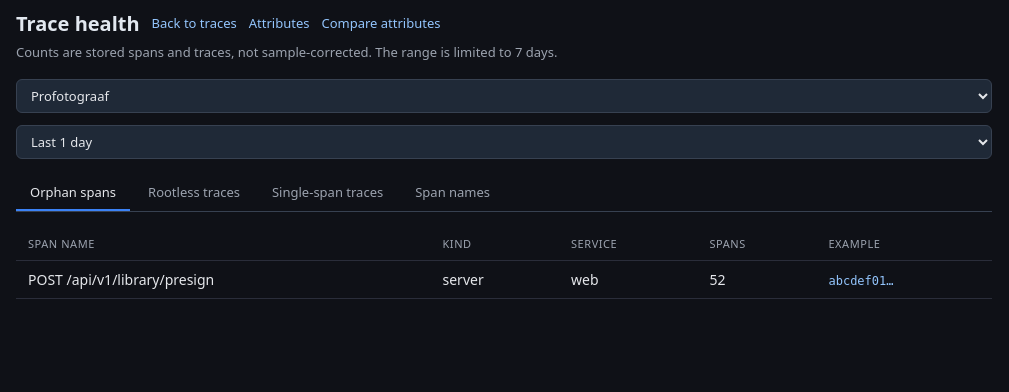
Test: TraceHealthPage › switches tabs and loads the single-span and span-name views
The width and height of the screenshot is (1009, 392).
Expected: the text "POST /api/v1/library/presign" is shown, [16,260,430,298]
Step 1. Click the tab "Single-span traces" → coordinates (328, 192), box [258,174,397,210]
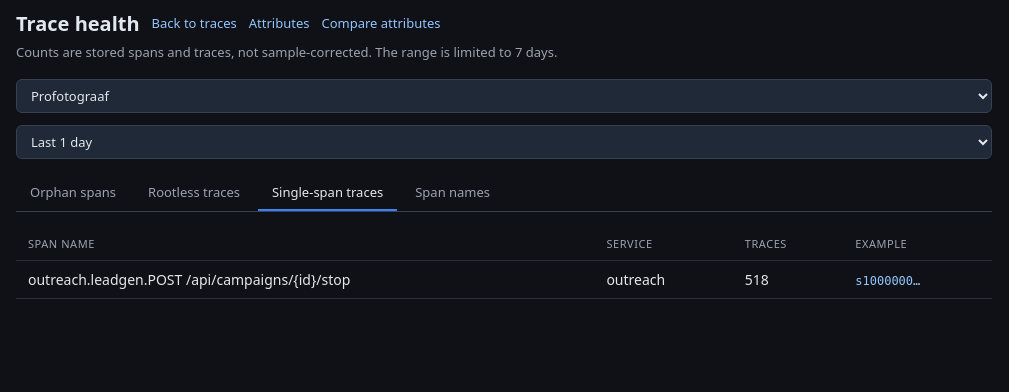
Expected: the text "outreach.leadgen.POST /api/campaigns/{id}/stop" is shown, [16,260,594,298]
Expected: the text "518" is shown, [733,260,843,298]
Step 2. Click the tab "Span names" → coordinates (453, 192), box [401,174,504,210]
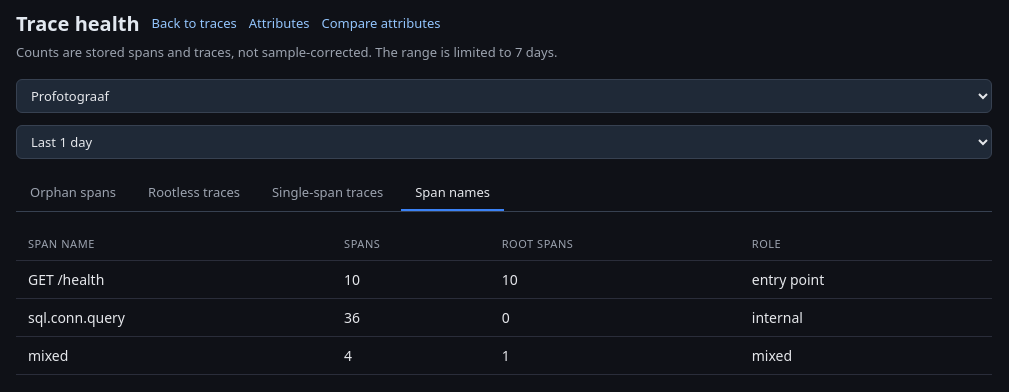
Expected: the text "sql.conn.query" is shown, [16,298,332,336]
Expected: the text "entry point" is shown, [740,260,992,298]
Expected: the text "internal" is shown, [740,298,992,336]
